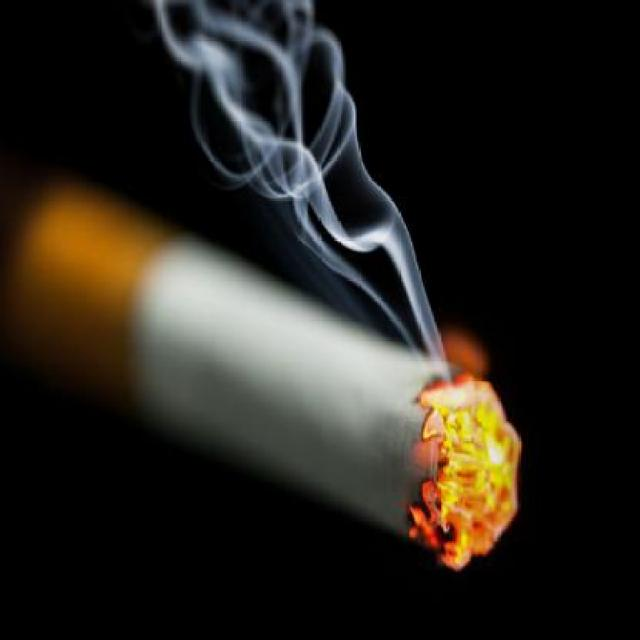cigarette: (28, 181, 548, 597)
